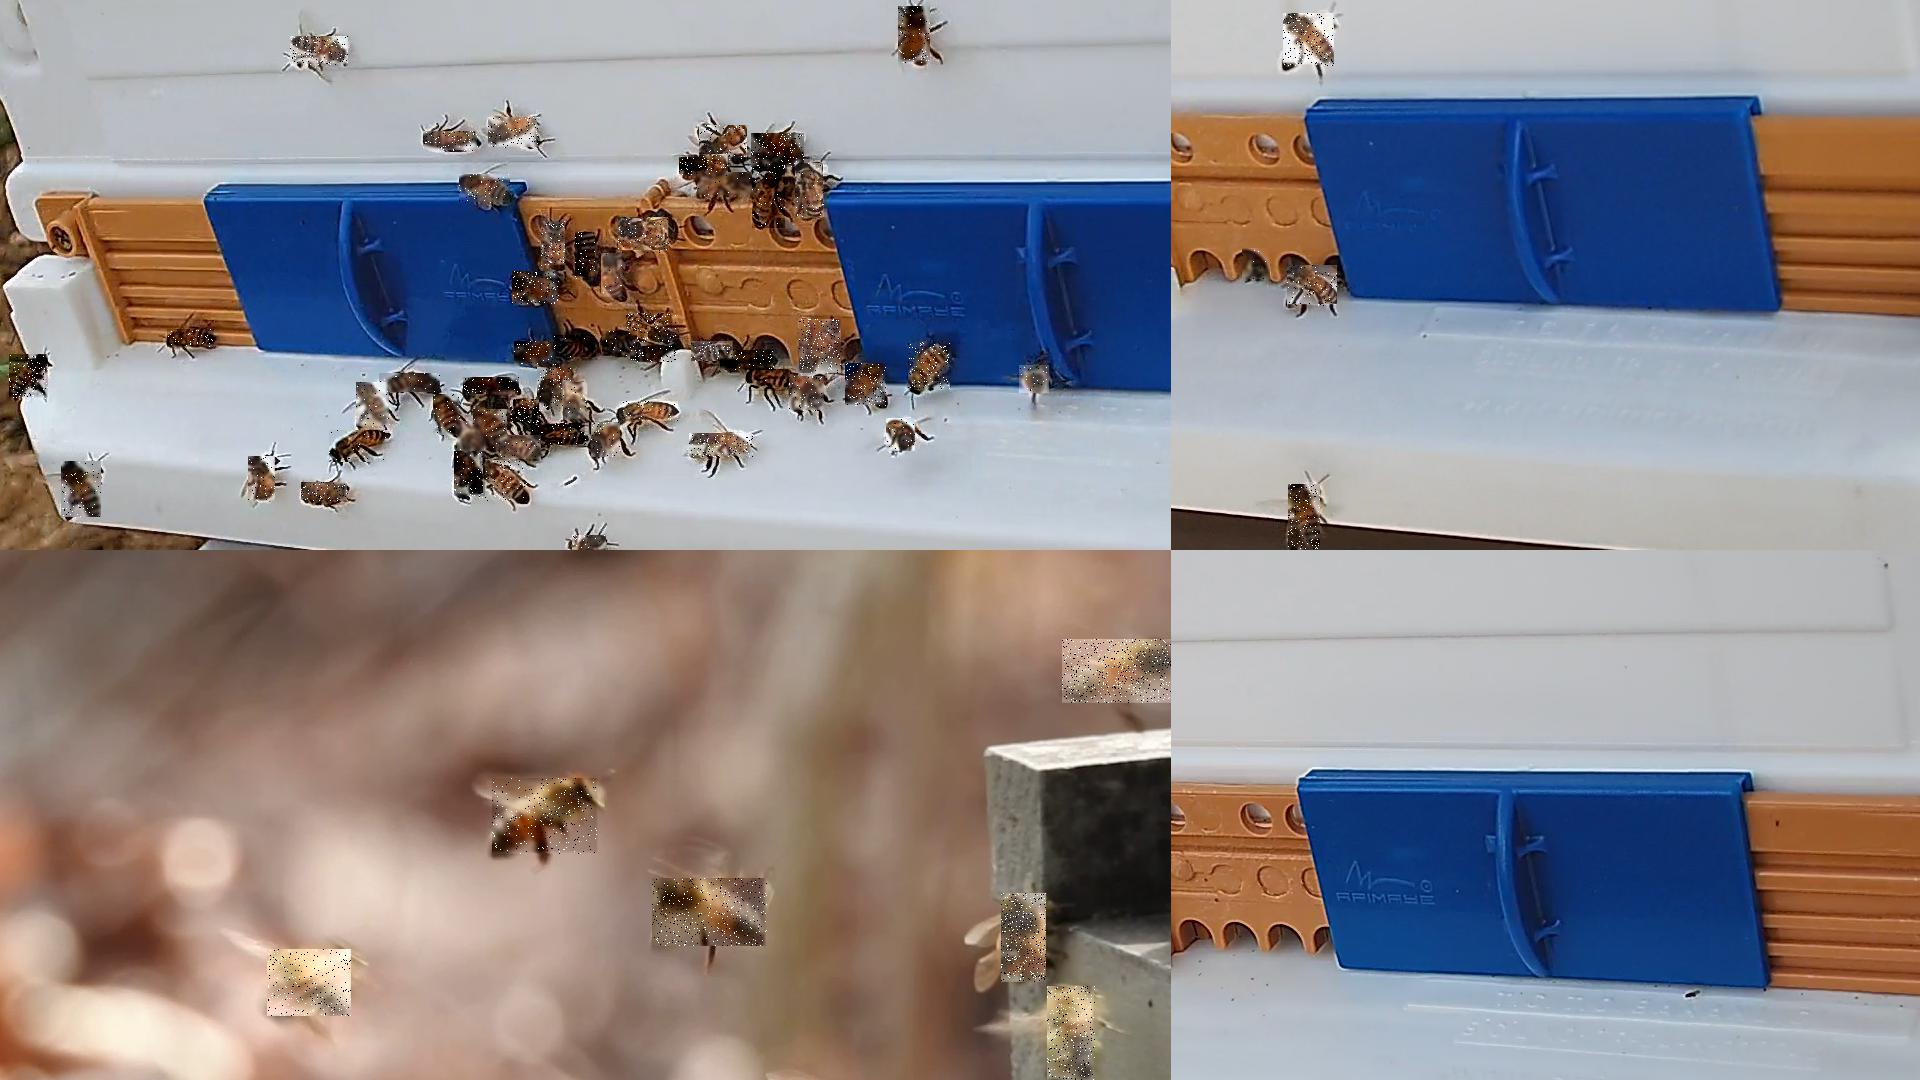bee: (493, 778, 600, 856), (653, 878, 769, 947), (1062, 640, 1170, 705), (268, 949, 352, 1017), (1047, 986, 1097, 1079), (1283, 13, 1336, 67), (799, 319, 843, 375), (61, 462, 102, 518), (1288, 484, 1323, 549), (1287, 266, 1338, 309), (480, 460, 529, 504), (752, 169, 786, 229), (909, 342, 951, 390), (330, 430, 390, 463), (752, 135, 806, 170), (898, 7, 931, 65), (845, 364, 887, 407), (9, 355, 49, 401), (699, 125, 748, 162), (290, 37, 349, 67), (796, 164, 828, 218), (489, 117, 539, 150), (690, 434, 754, 459), (357, 382, 392, 429), (626, 313, 678, 343), (459, 175, 512, 204), (455, 452, 488, 498), (537, 368, 572, 410), (698, 173, 756, 198), (473, 410, 508, 451), (248, 456, 277, 502), (790, 377, 827, 413), (531, 423, 589, 446), (746, 371, 799, 394), (620, 401, 679, 422), (380, 373, 442, 393), (721, 351, 775, 373), (425, 132, 480, 153), (434, 396, 462, 438), (601, 255, 626, 301), (542, 222, 566, 269), (514, 342, 559, 367), (500, 435, 542, 462), (591, 422, 621, 458), (679, 158, 729, 179), (886, 418, 916, 452), (575, 232, 596, 281), (554, 335, 597, 357), (564, 382, 588, 423), (1242, 249, 1271, 282), (510, 400, 545, 427), (692, 342, 737, 363), (603, 331, 638, 357), (302, 483, 349, 502), (463, 378, 521, 394), (458, 421, 485, 454), (1019, 365, 1050, 394), (167, 330, 215, 348), (630, 345, 678, 363), (571, 535, 608, 549)
pollenbee: (1001, 893, 1047, 982), (618, 218, 673, 255), (513, 272, 560, 306)
